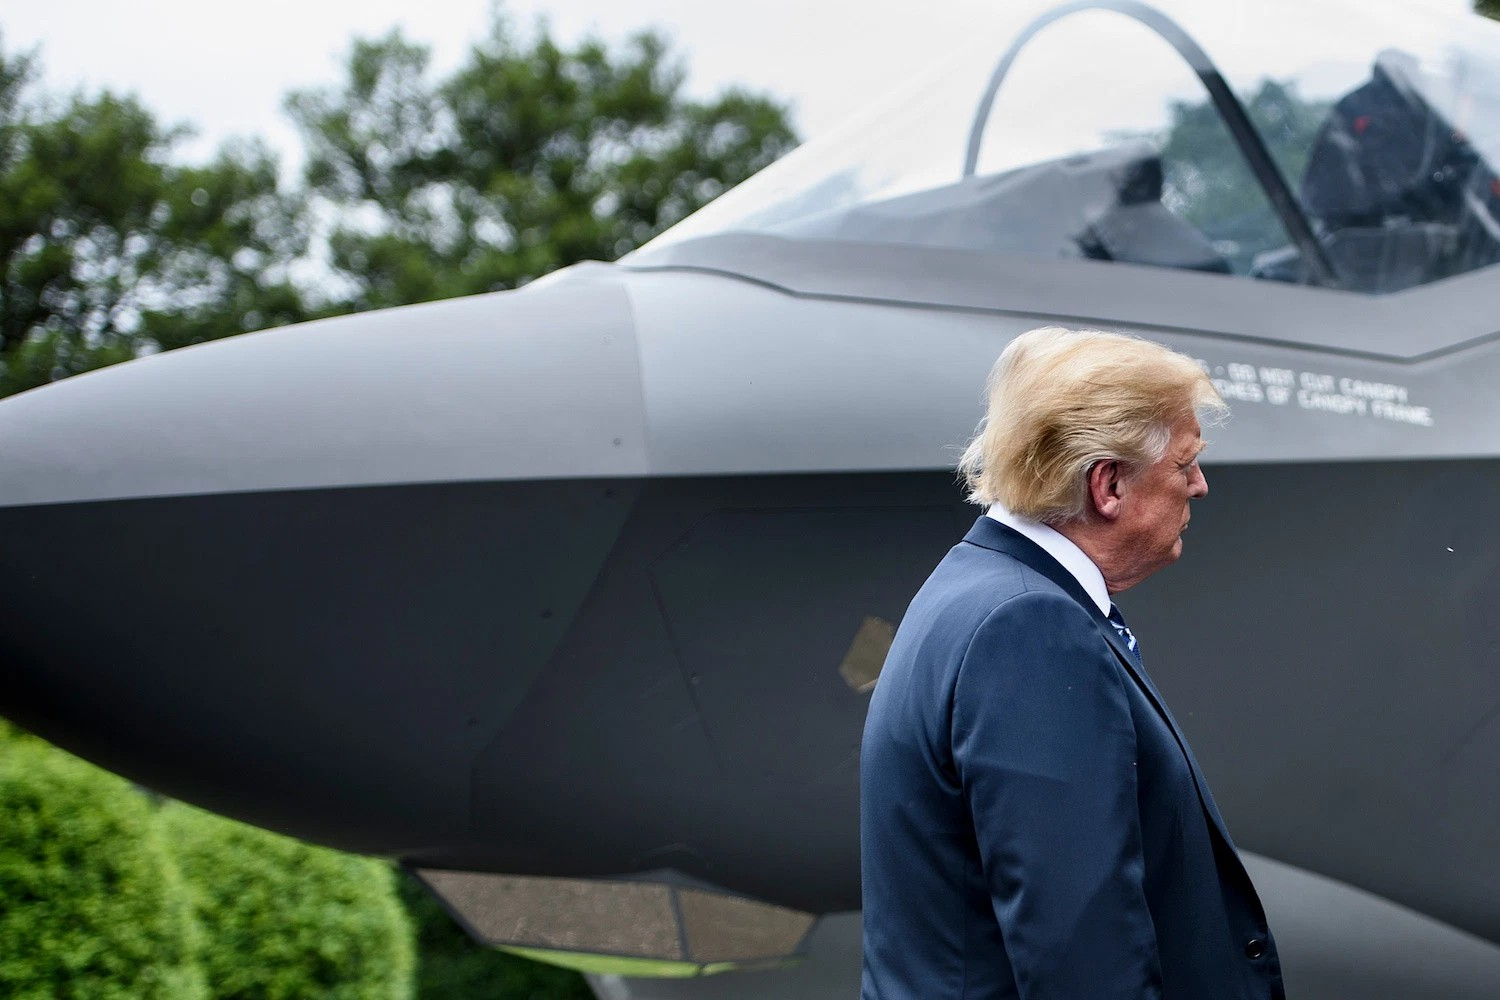F-35 Lightning: (4, 3, 1500, 973)
